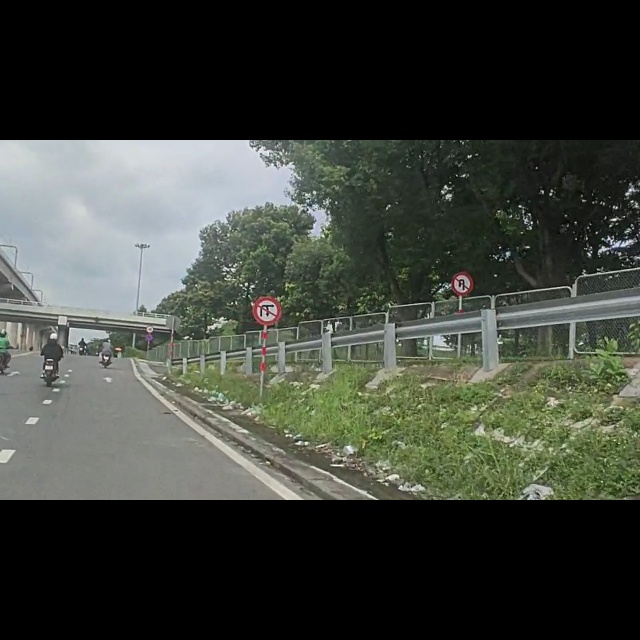bien_cam: (252, 277, 282, 331), (451, 235, 474, 279), (146, 329, 154, 344), (145, 345, 153, 357)
